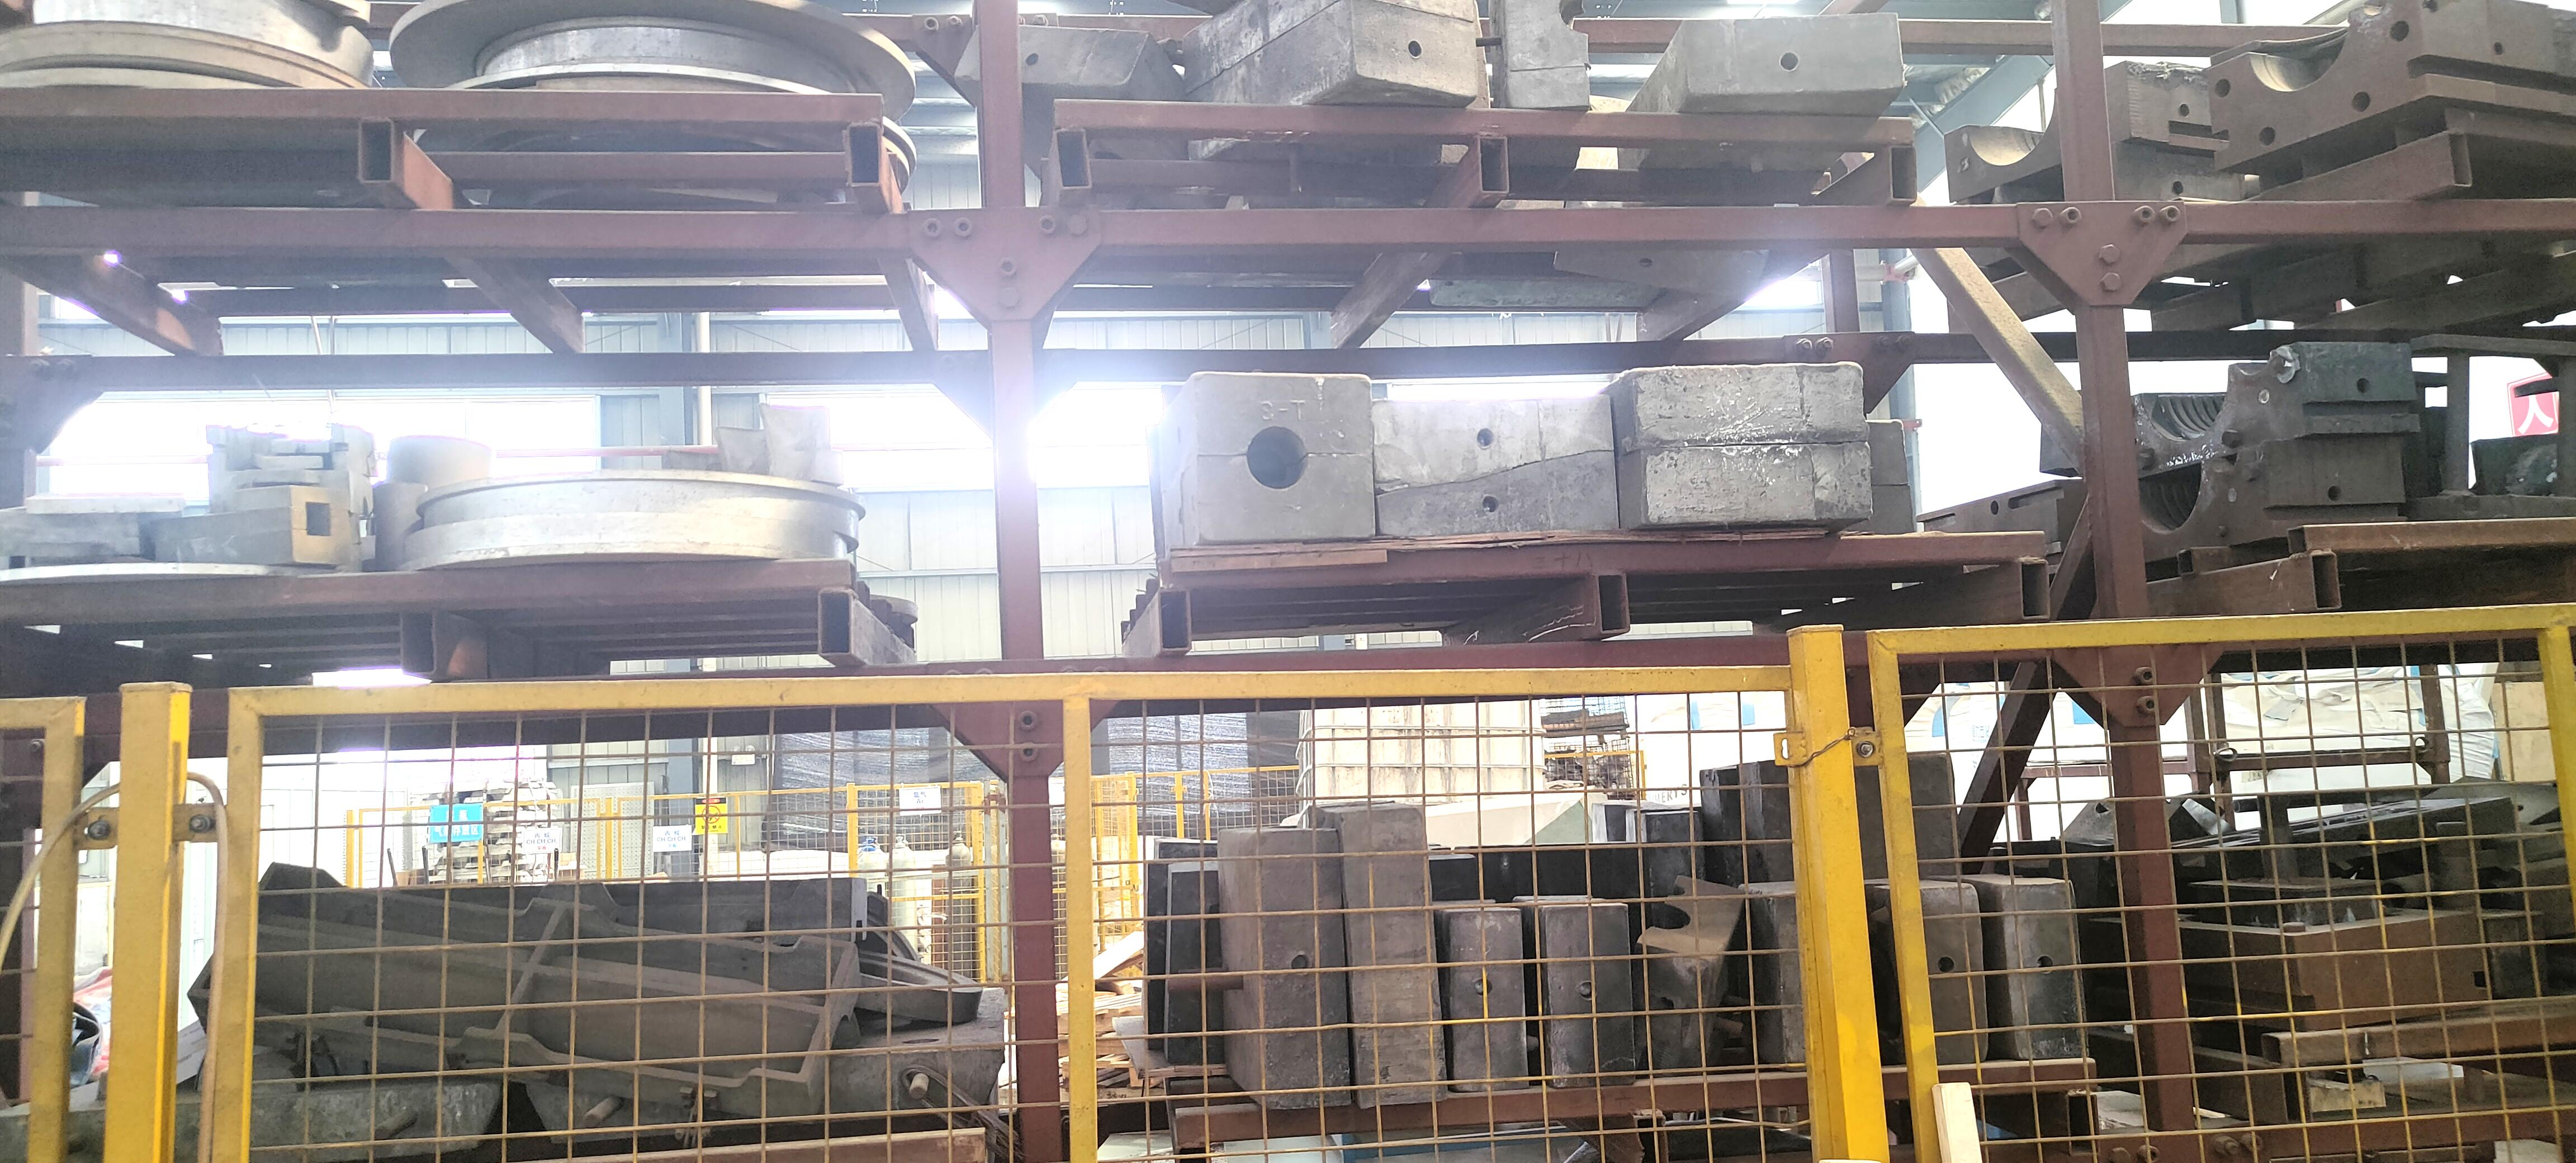pouring hole: (1249, 427, 1308, 491)
